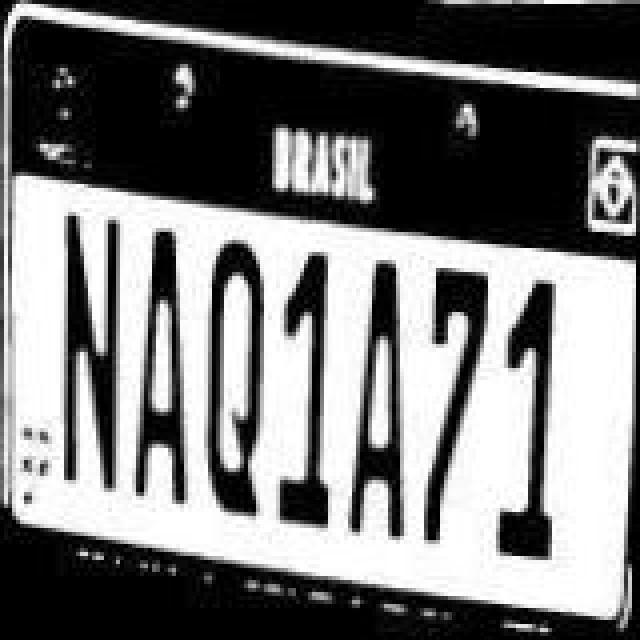1: (498, 266, 574, 574), (280, 232, 352, 548)
7: (426, 248, 502, 564)
A: (132, 206, 212, 526), (356, 230, 428, 542)
N: (56, 200, 136, 520)
Q: (214, 216, 290, 532)
